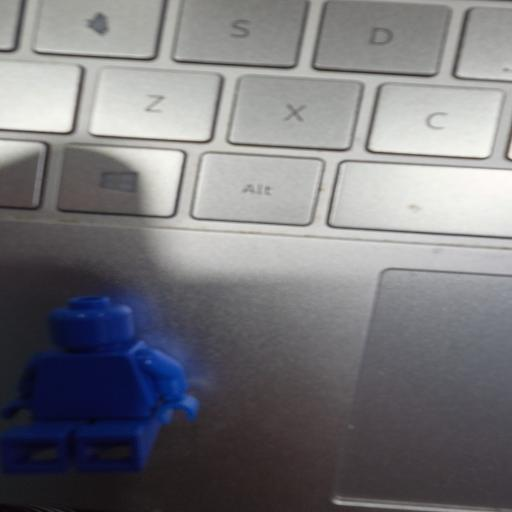Blue: (2, 296, 198, 472)
